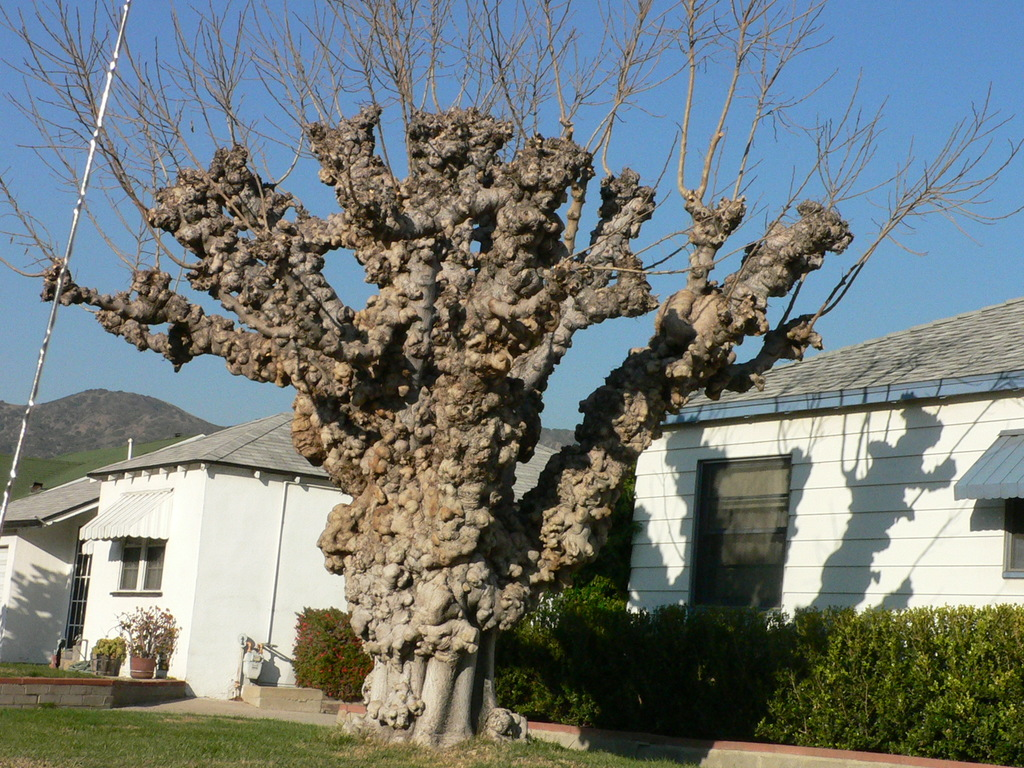Tree: (64, 28, 955, 731)
